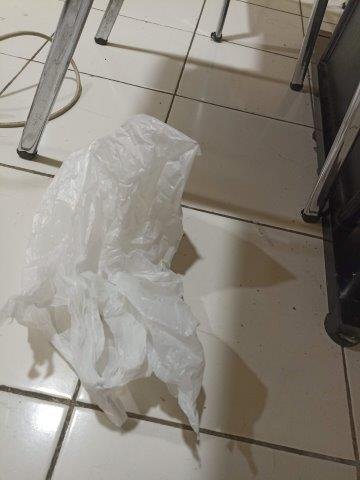plastik: (3, 113, 205, 441)
